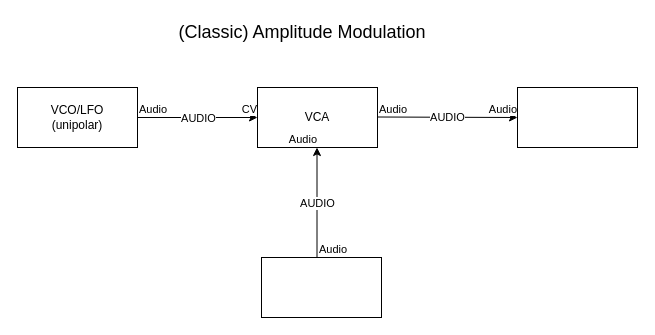
Some shapes in this 655 by 335 pixel diagram are drawn without their labels. The shapes that lost their labels are listed below. From the top down, each one's centre as x and y in pixels, then its label:
At point 577,117: "Audio OUT".
At point 321,287: "VCO".
